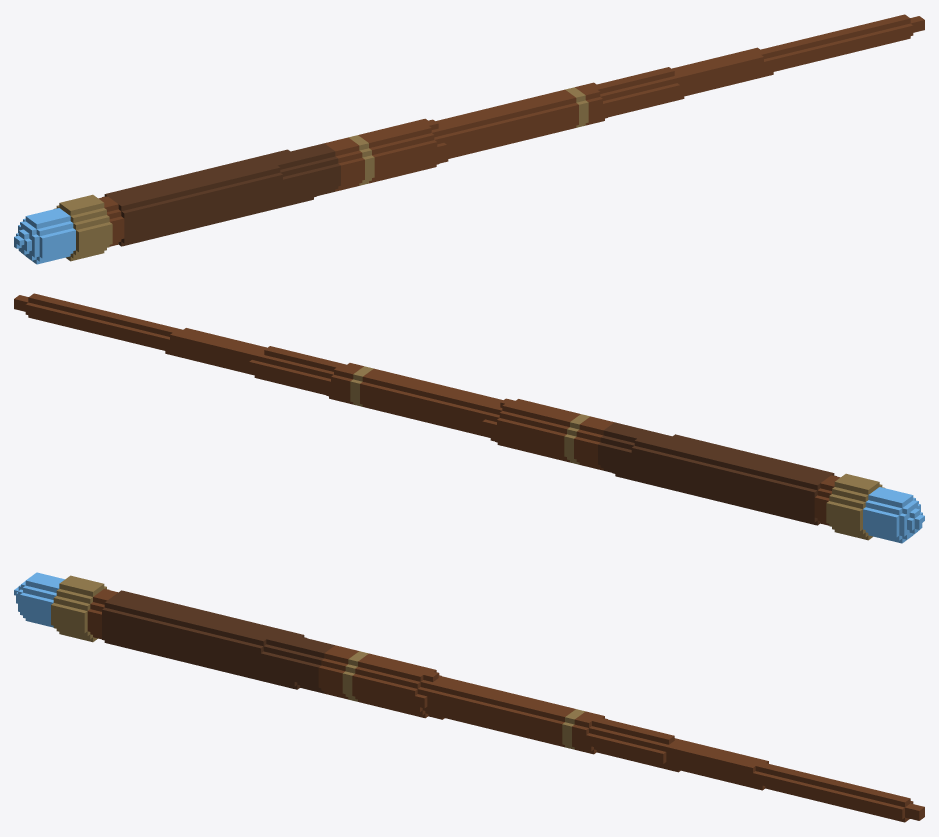
Rendered from crystal_butt_wand.glb.
3 views of the same model, one above another, from view 1: azimuth 30°, elevation 25°; view 2: azimuth 150°, elevation 25°; view 3: azimuth 330°, elevation 25° (orthographic).
Visible parts, largest first — view 1: crystal_butt_wand:compound; view 2: crystal_butt_wand:compound; view 3: crystal_butt_wand:compound.
Boxes of the visible parts, left/top/right/bottom form: crystal_butt_wand:compound: left=14, top=14, right=924, bottom=264; crystal_butt_wand:compound: left=14, top=293, right=924, bottom=543; crystal_butt_wand:compound: left=14, top=572, right=924, bottom=822.
Size of the model in its own units: 0.376 by 0.02 by 0.02.
